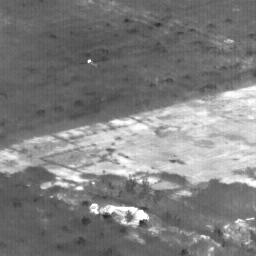aircraft: (88, 60, 90, 62)
